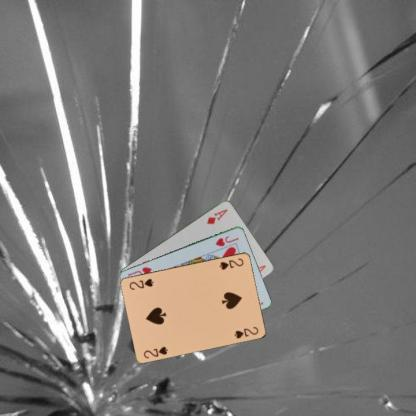2s: (217, 255, 245, 271), (141, 344, 169, 359)
Ad: (204, 207, 229, 226)
Jh: (213, 233, 240, 248)
